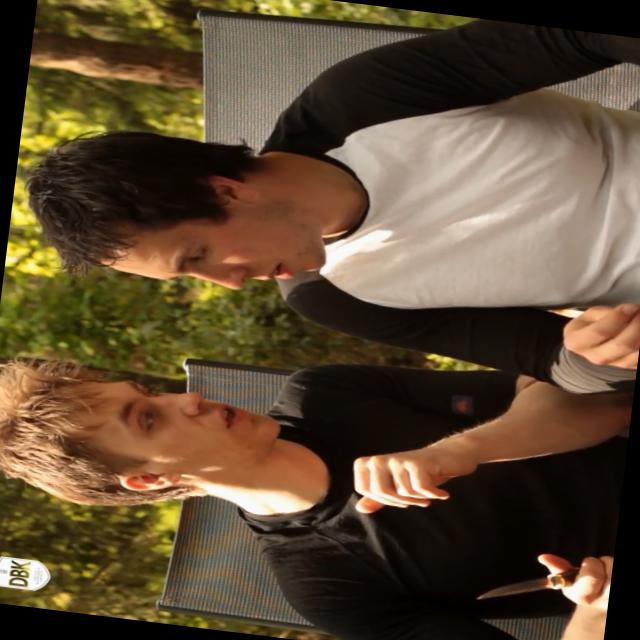knife: (451, 533, 613, 623)
